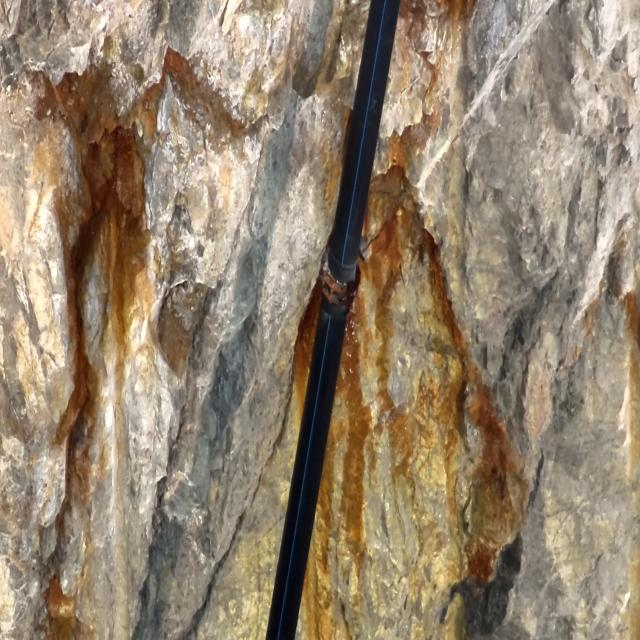leak: (341, 288, 359, 407)
